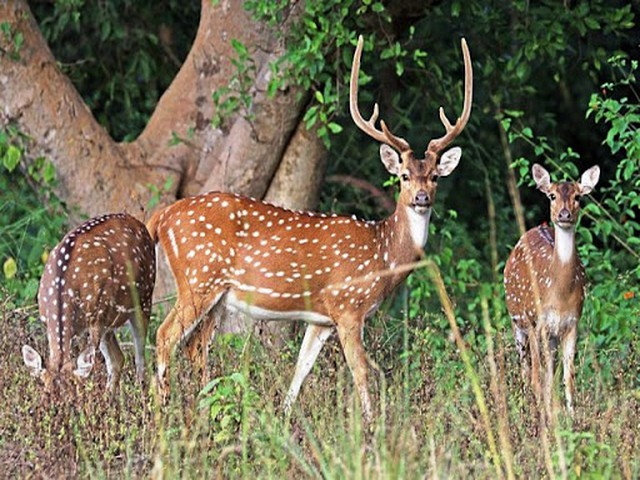deer: (160, 26, 476, 432), (22, 191, 156, 414), (495, 150, 608, 401)
